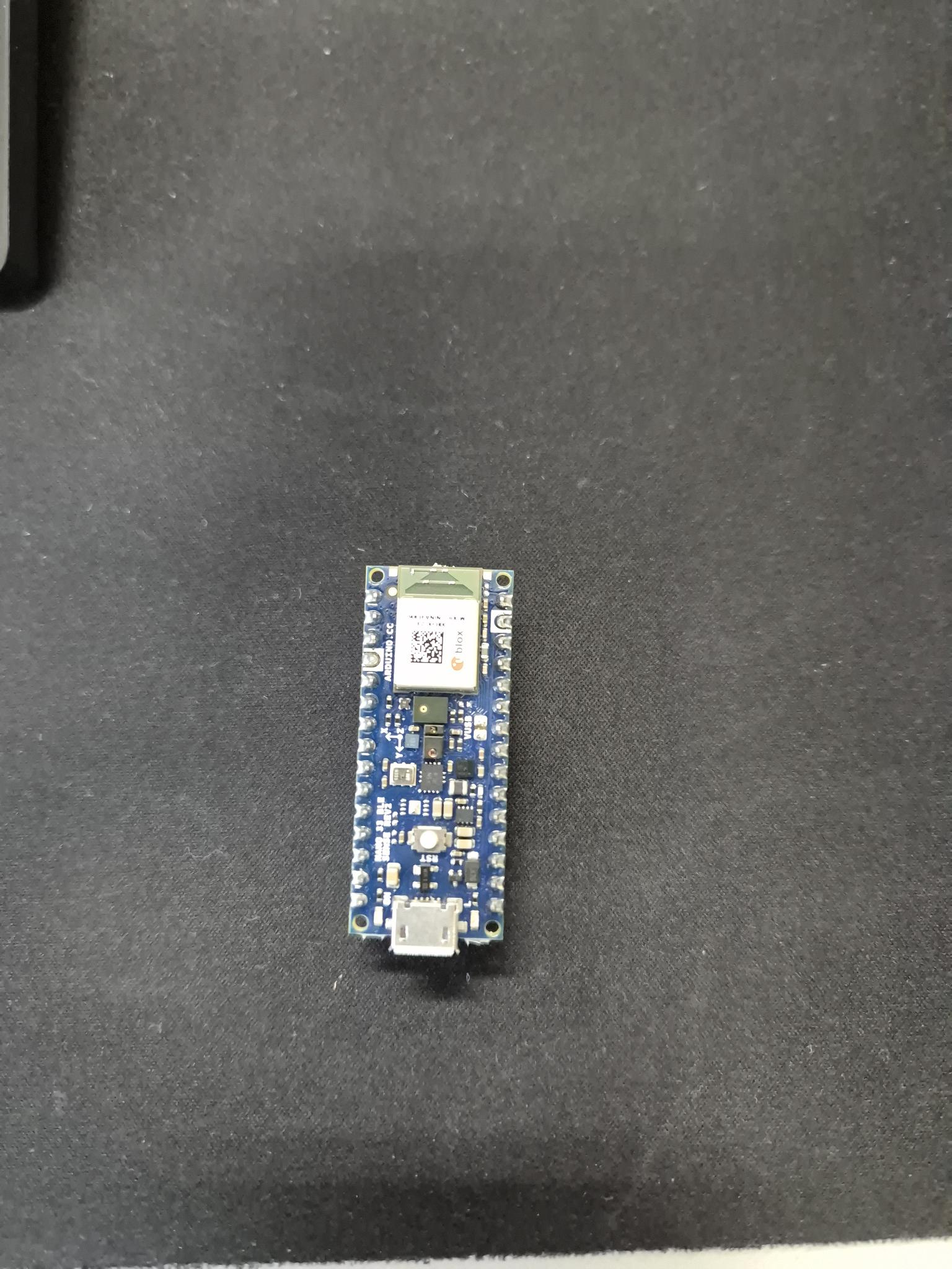arduino-nano-ble-sense: (349, 566, 513, 956)
